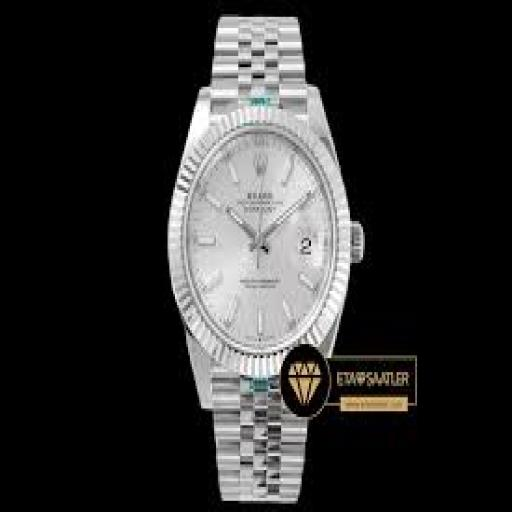KolSaati: (164, 7, 364, 504)
